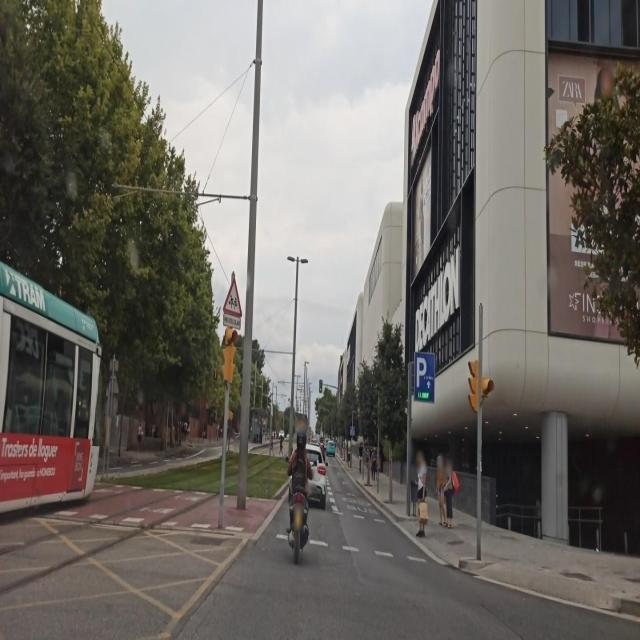bike: (286, 465, 311, 565)
car: (302, 442, 328, 510), (326, 439, 336, 459)
